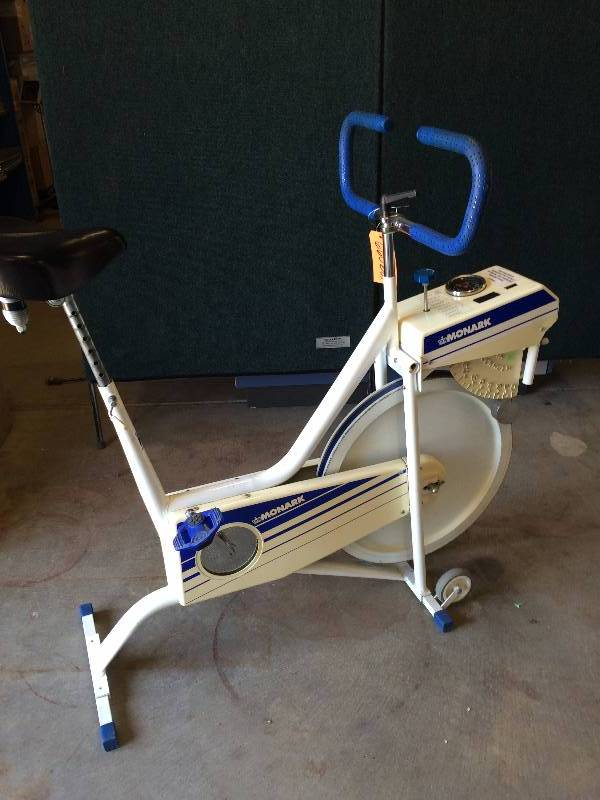gym_bike: (24, 139, 550, 708)
